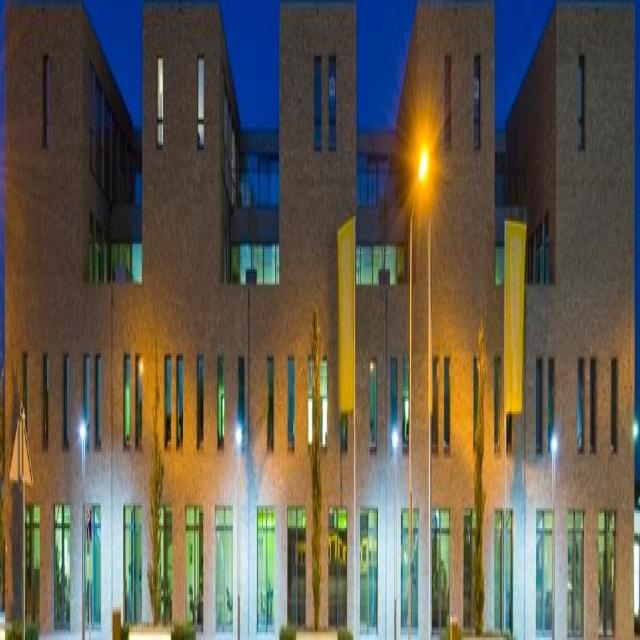door: (24, 502, 40, 630), (84, 506, 100, 634), (126, 506, 142, 634), (156, 508, 172, 635), (186, 511, 202, 638), (433, 513, 449, 640), (361, 513, 377, 640), (465, 509, 481, 636), (536, 509, 552, 636), (54, 504, 70, 630), (215, 506, 230, 634), (258, 506, 273, 634), (289, 506, 304, 634), (331, 513, 346, 640), (402, 509, 417, 636), (497, 513, 512, 640), (568, 513, 583, 640), (599, 515, 614, 640)
wall: (2, 0, 634, 637)
windows: (89, 220, 142, 287), (356, 237, 408, 287), (239, 149, 279, 204), (232, 243, 280, 284), (358, 156, 389, 204), (306, 362, 314, 443), (62, 360, 70, 441), (82, 361, 90, 442), (534, 364, 542, 444), (320, 357, 328, 437), (444, 56, 451, 143), (433, 358, 440, 439), (612, 358, 619, 439), (218, 362, 225, 443), (177, 360, 184, 441), (390, 357, 397, 437), (443, 361, 450, 441), (590, 364, 597, 444), (368, 364, 375, 444), (265, 360, 272, 440), (240, 364, 247, 444), (196, 362, 203, 442), (163, 358, 170, 438), (136, 358, 143, 438), (122, 360, 129, 440), (95, 360, 102, 440), (475, 57, 481, 149), (578, 365, 584, 446), (40, 362, 46, 443), (288, 361, 294, 441), (550, 371, 556, 447), (404, 364, 410, 440), (45, 62, 50, 143), (23, 358, 28, 438), (473, 365, 478, 442), (495, 361, 500, 437), (580, 64, 584, 148)
